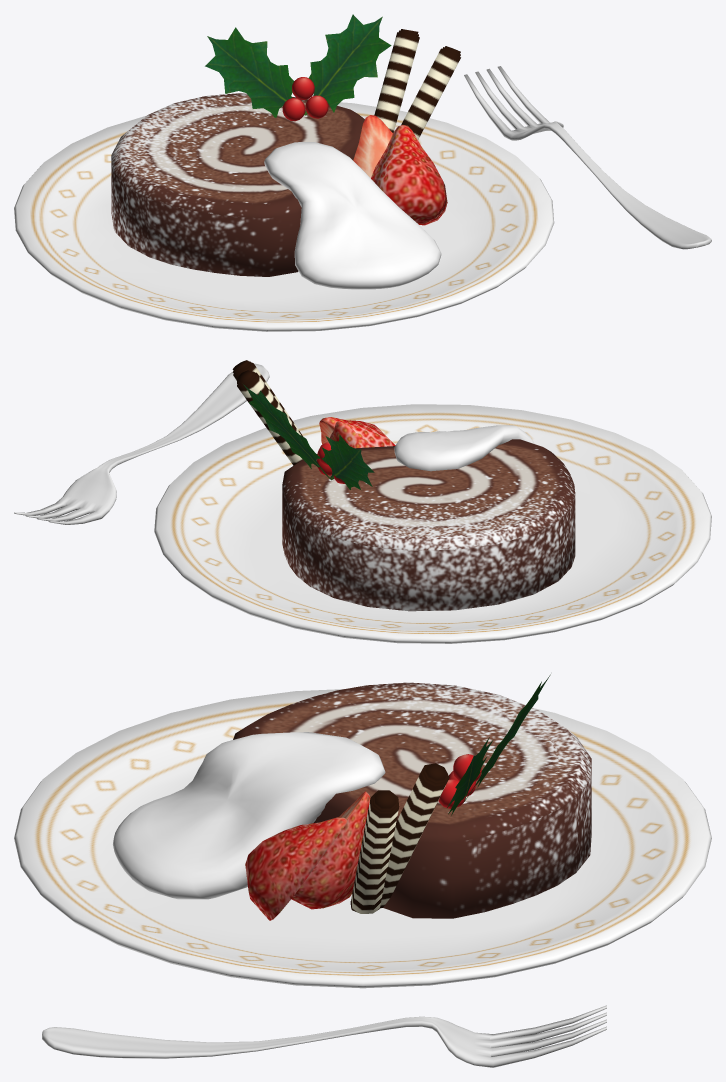
The model's file is Buche_de_Noel_Cut.fbx.
3 views of the same model, one above another, from view 1: azimuth 30°, elevation 25°; view 2: azimuth 150°, elevation 25°; view 3: azimuth 270°, elevation 25° (orthographic). The views are drawn at different scales.
Visible parts, largest first — view 1: Buche de Noel_Cut, Fork; view 2: Buche de Noel_Cut, Fork; view 3: Buche de Noel_Cut, Fork.
Part boxes in pixels (x1=…): Buche de Noel_Cut: x1=14, y1=14, x2=554, y2=331; Fork: x1=464, y1=66, x2=711, y2=249; Buche de Noel_Cut: x1=154, y1=360, x2=711, y2=643; Fork: x1=14, y1=363, x2=269, y2=524; Buche de Noel_Cut: x1=14, y1=674, x2=711, y2=988; Fork: x1=42, y1=1005, x2=606, y2=1067.
Size of the model in its own units: 0.282 by 0.0789 by 0.2401.
